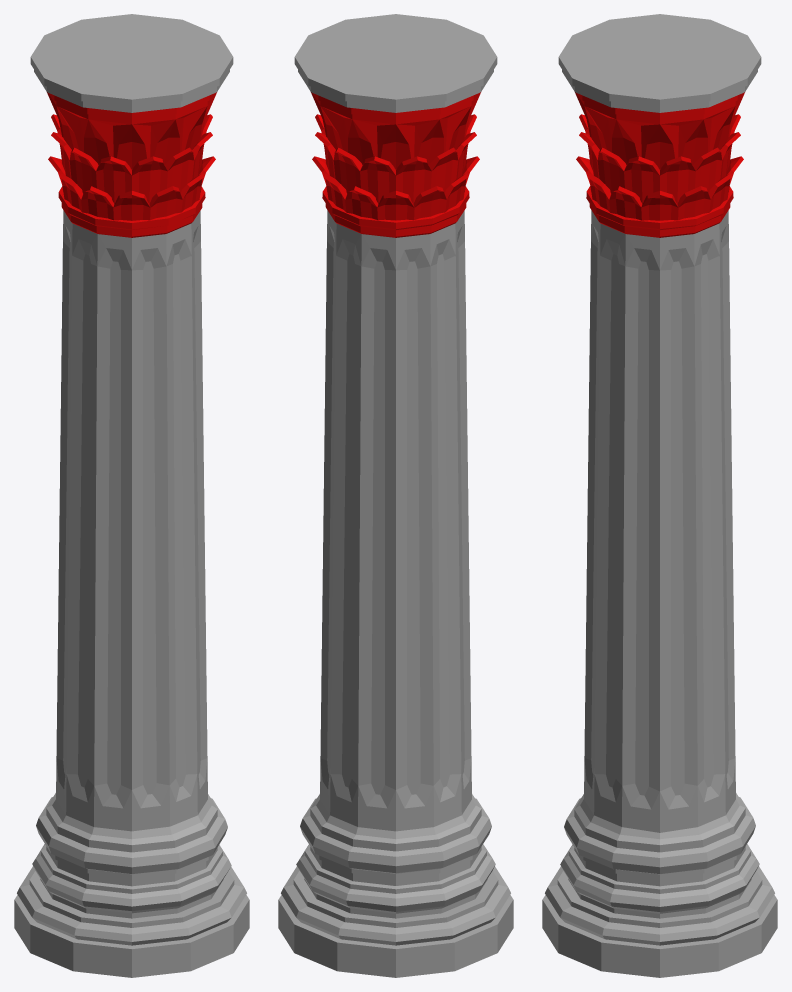
File: SM_Bld_Pillar_05.fbx
3 views of the same model, side by side, from view 1: azimuth 30°, elevation 25°; view 2: azimuth 150°, elevation 25°; view 3: azimuth 270°, elevation 25° (orthographic).
Parts seen in each view (by area): view 1: SM_Bld_Pillar_05; view 2: SM_Bld_Pillar_05; view 3: SM_Bld_Pillar_05.
Part boxes in pixels (box(x1,y1,x2,y2)): SM_Bld_Pillar_05: box(14, 14, 249, 977); SM_Bld_Pillar_05: box(278, 14, 513, 977); SM_Bld_Pillar_05: box(542, 14, 777, 977).
Bounding box in the file's own units: 73.31 × 300 × 73.31.
